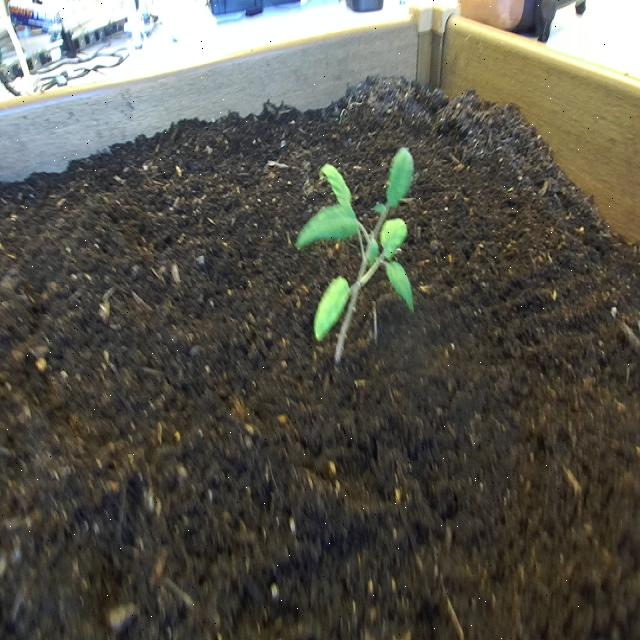Healthy: (296, 144, 416, 368)
